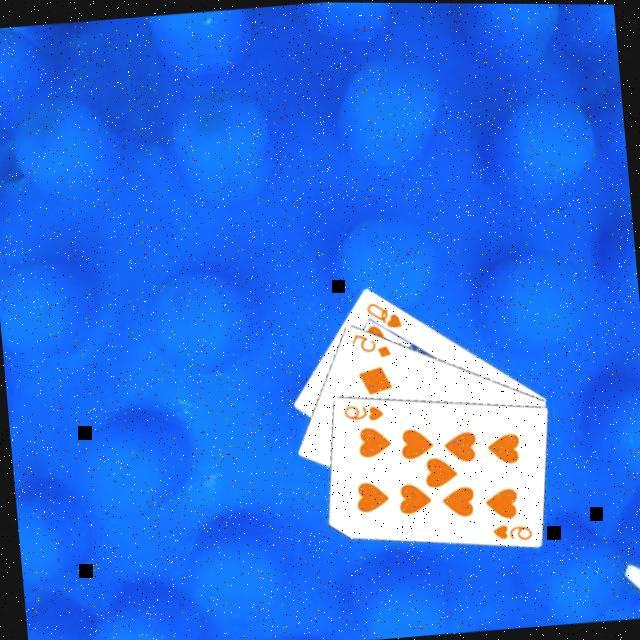5D: (344, 327, 392, 363)
9H: (337, 398, 385, 426), (486, 518, 534, 546)
QH: (359, 296, 404, 332)
